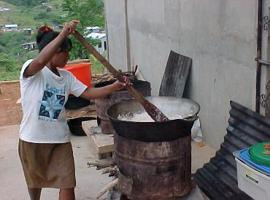person: (19, 23, 131, 200)
